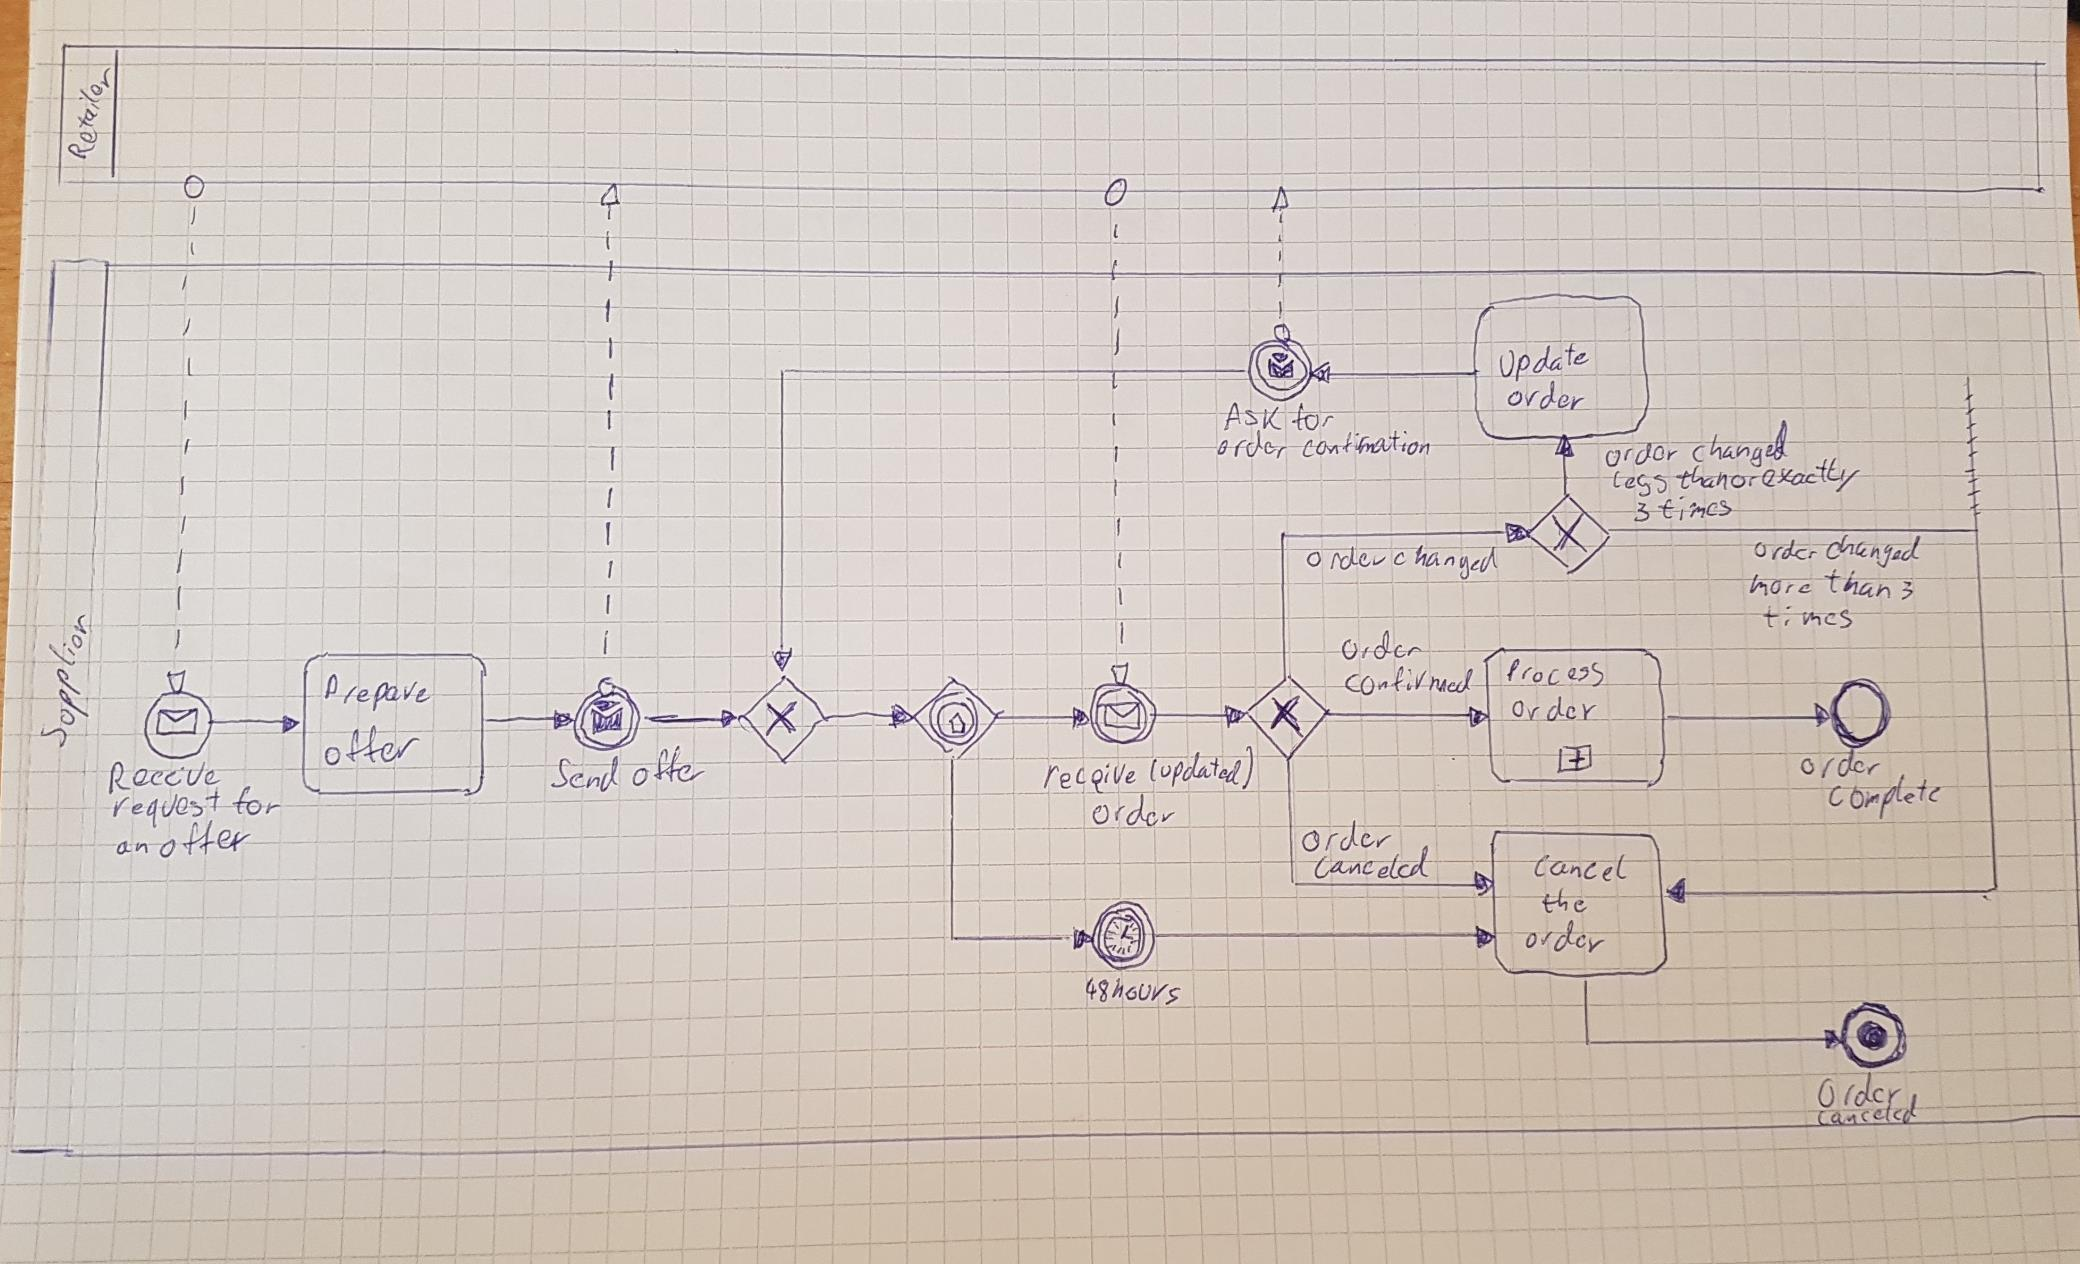(updated): (1147, 752, 1255, 786)
3: (1628, 498, 1651, 527), (1899, 575, 1915, 602)
48: (1085, 974, 1108, 1007)
Ask: (1226, 403, 1285, 434)
Order: (1819, 1080, 1902, 1107)
Prepare: (319, 671, 429, 710)
Receive: (107, 758, 221, 796)
Retailer: (62, 68, 111, 163)
Send: (548, 752, 623, 796)
Supplier: (33, 613, 94, 749)
Update: (1495, 342, 1593, 385)
an: (113, 833, 149, 859)
cancel: (1530, 853, 1630, 887)
canceled: (1313, 847, 1435, 881), (1817, 1101, 1917, 1130)
changed: (1389, 547, 1502, 579), (1824, 535, 1925, 569), (1691, 435, 1792, 466)
complete: (1824, 778, 1943, 815)
confirmation: (1300, 432, 1432, 460)
confirmed: (1343, 665, 1475, 697)
exactly: (1761, 456, 1862, 493)
for: (230, 786, 276, 821), (1288, 405, 1340, 435)
hours: (1110, 977, 1180, 1007)
legs: (1612, 468, 1670, 498)
more: (1753, 572, 1819, 602)
offer: (156, 818, 253, 866), (321, 729, 419, 771), (628, 744, 703, 792)
or: (1731, 468, 1761, 493)
order: (1304, 821, 1394, 856), (1521, 922, 1605, 957), (1509, 695, 1597, 726), (1342, 633, 1425, 665), (1093, 799, 1171, 830), (1304, 547, 1386, 575), (1799, 755, 1882, 781), (1508, 383, 1579, 413), (1212, 435, 1291, 462), (1753, 536, 1820, 567), (1608, 438, 1680, 466)
process: (1501, 657, 1603, 691)
receive: (1041, 756, 1135, 796)
request: (110, 789, 226, 824)
than: (1821, 572, 1894, 605), (1674, 463, 1726, 492)
the: (1541, 890, 1590, 916)
times: (1761, 606, 1853, 633), (1660, 496, 1734, 524)
